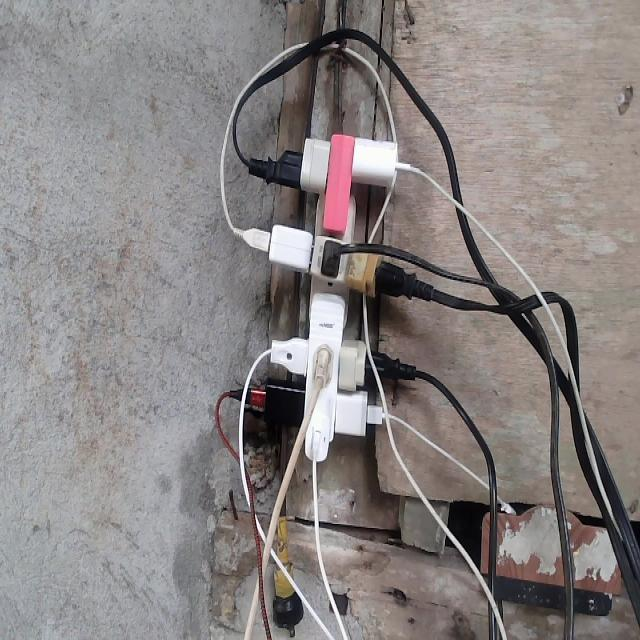-: (234, 132, 431, 463)
